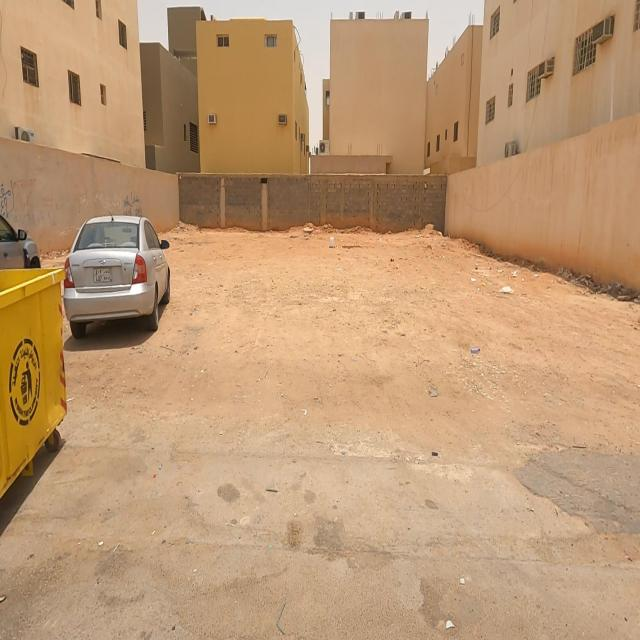Graffiti: (1, 181, 16, 217), (123, 191, 141, 218)
